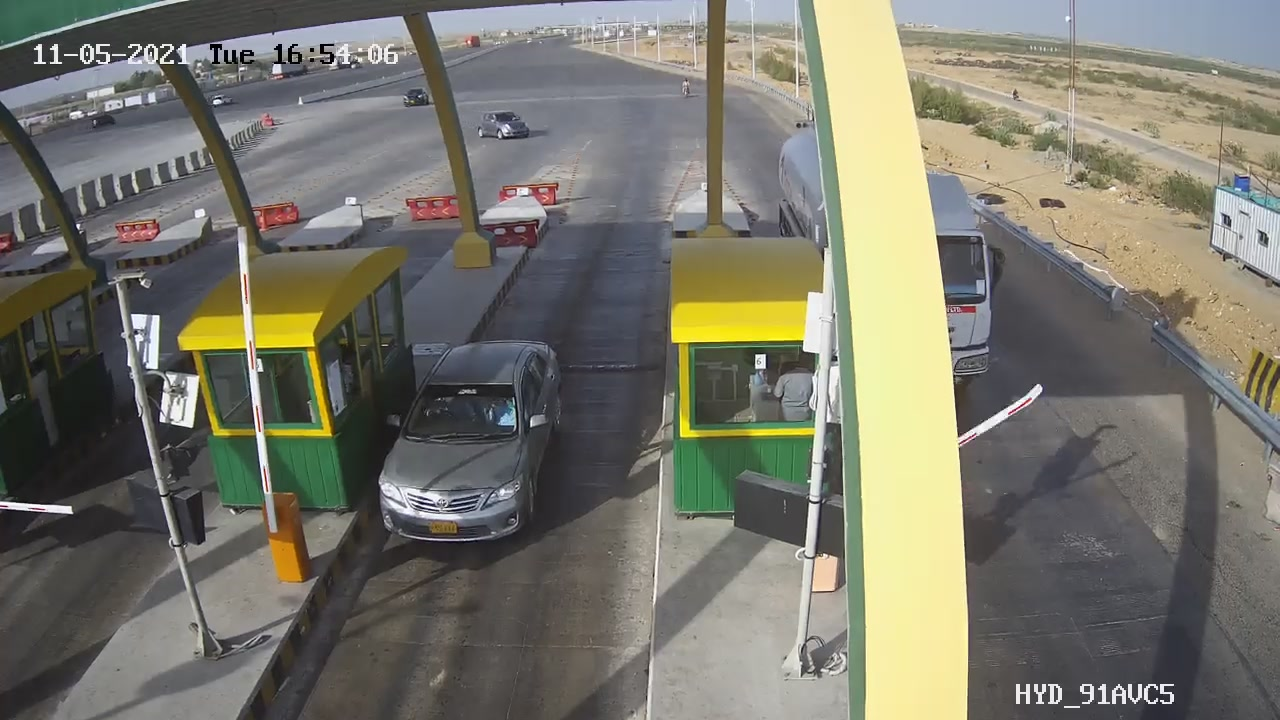F1: (357, 319, 585, 566)
